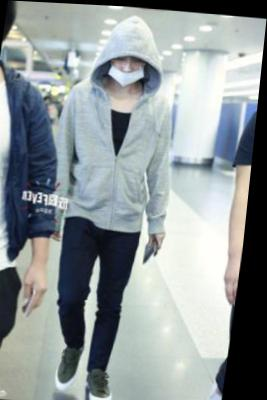WRONG: (109, 51, 150, 87)
